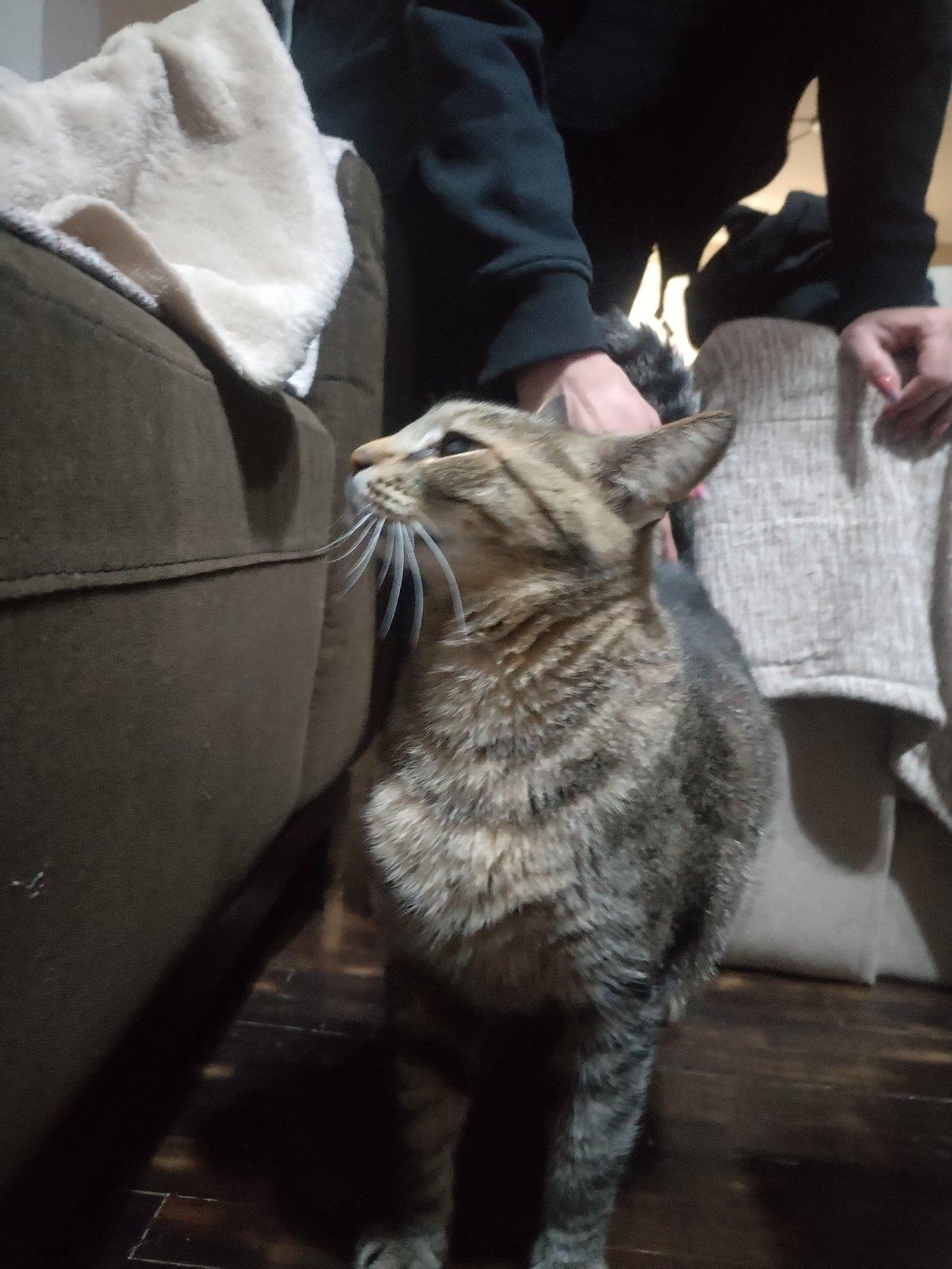macka: (345, 392, 791, 1268)
